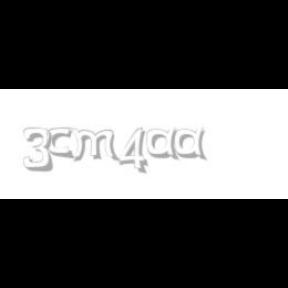3: (23, 128, 54, 172)
4: (118, 128, 148, 174)
a: (174, 128, 212, 160), (146, 128, 183, 160)
c: (46, 128, 76, 160)
m: (69, 128, 121, 162)
